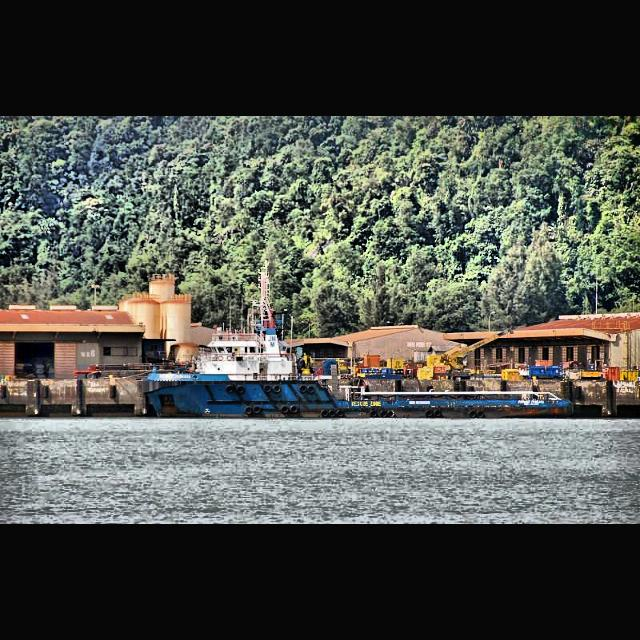anchor_handling_tug_supply: (146, 320, 574, 420)
